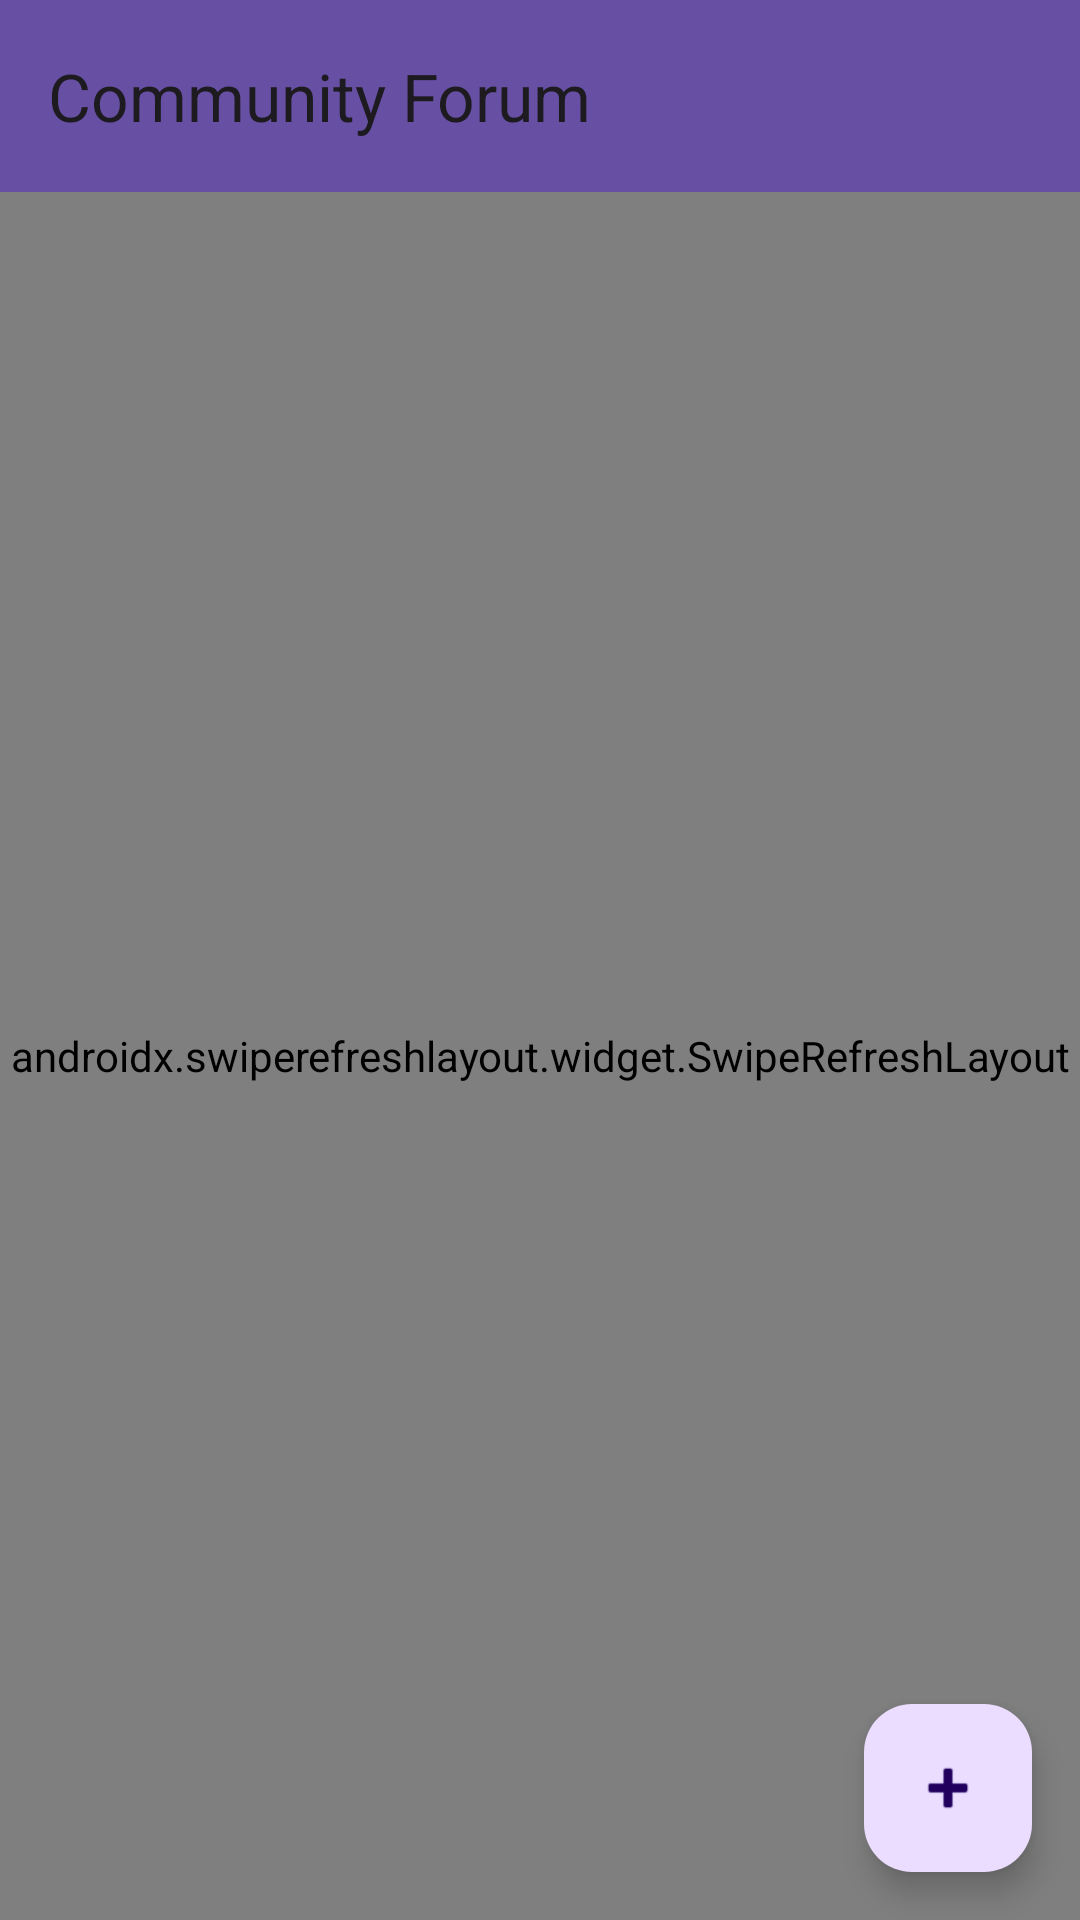

Named icons in this screenshot (1080 × 1920) and their centers, (x=x, y=y):
Create new post: (x=948, y=1788)
